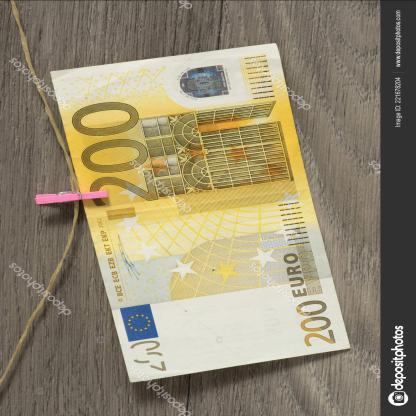euro_banknote: (31, 99, 375, 323)
